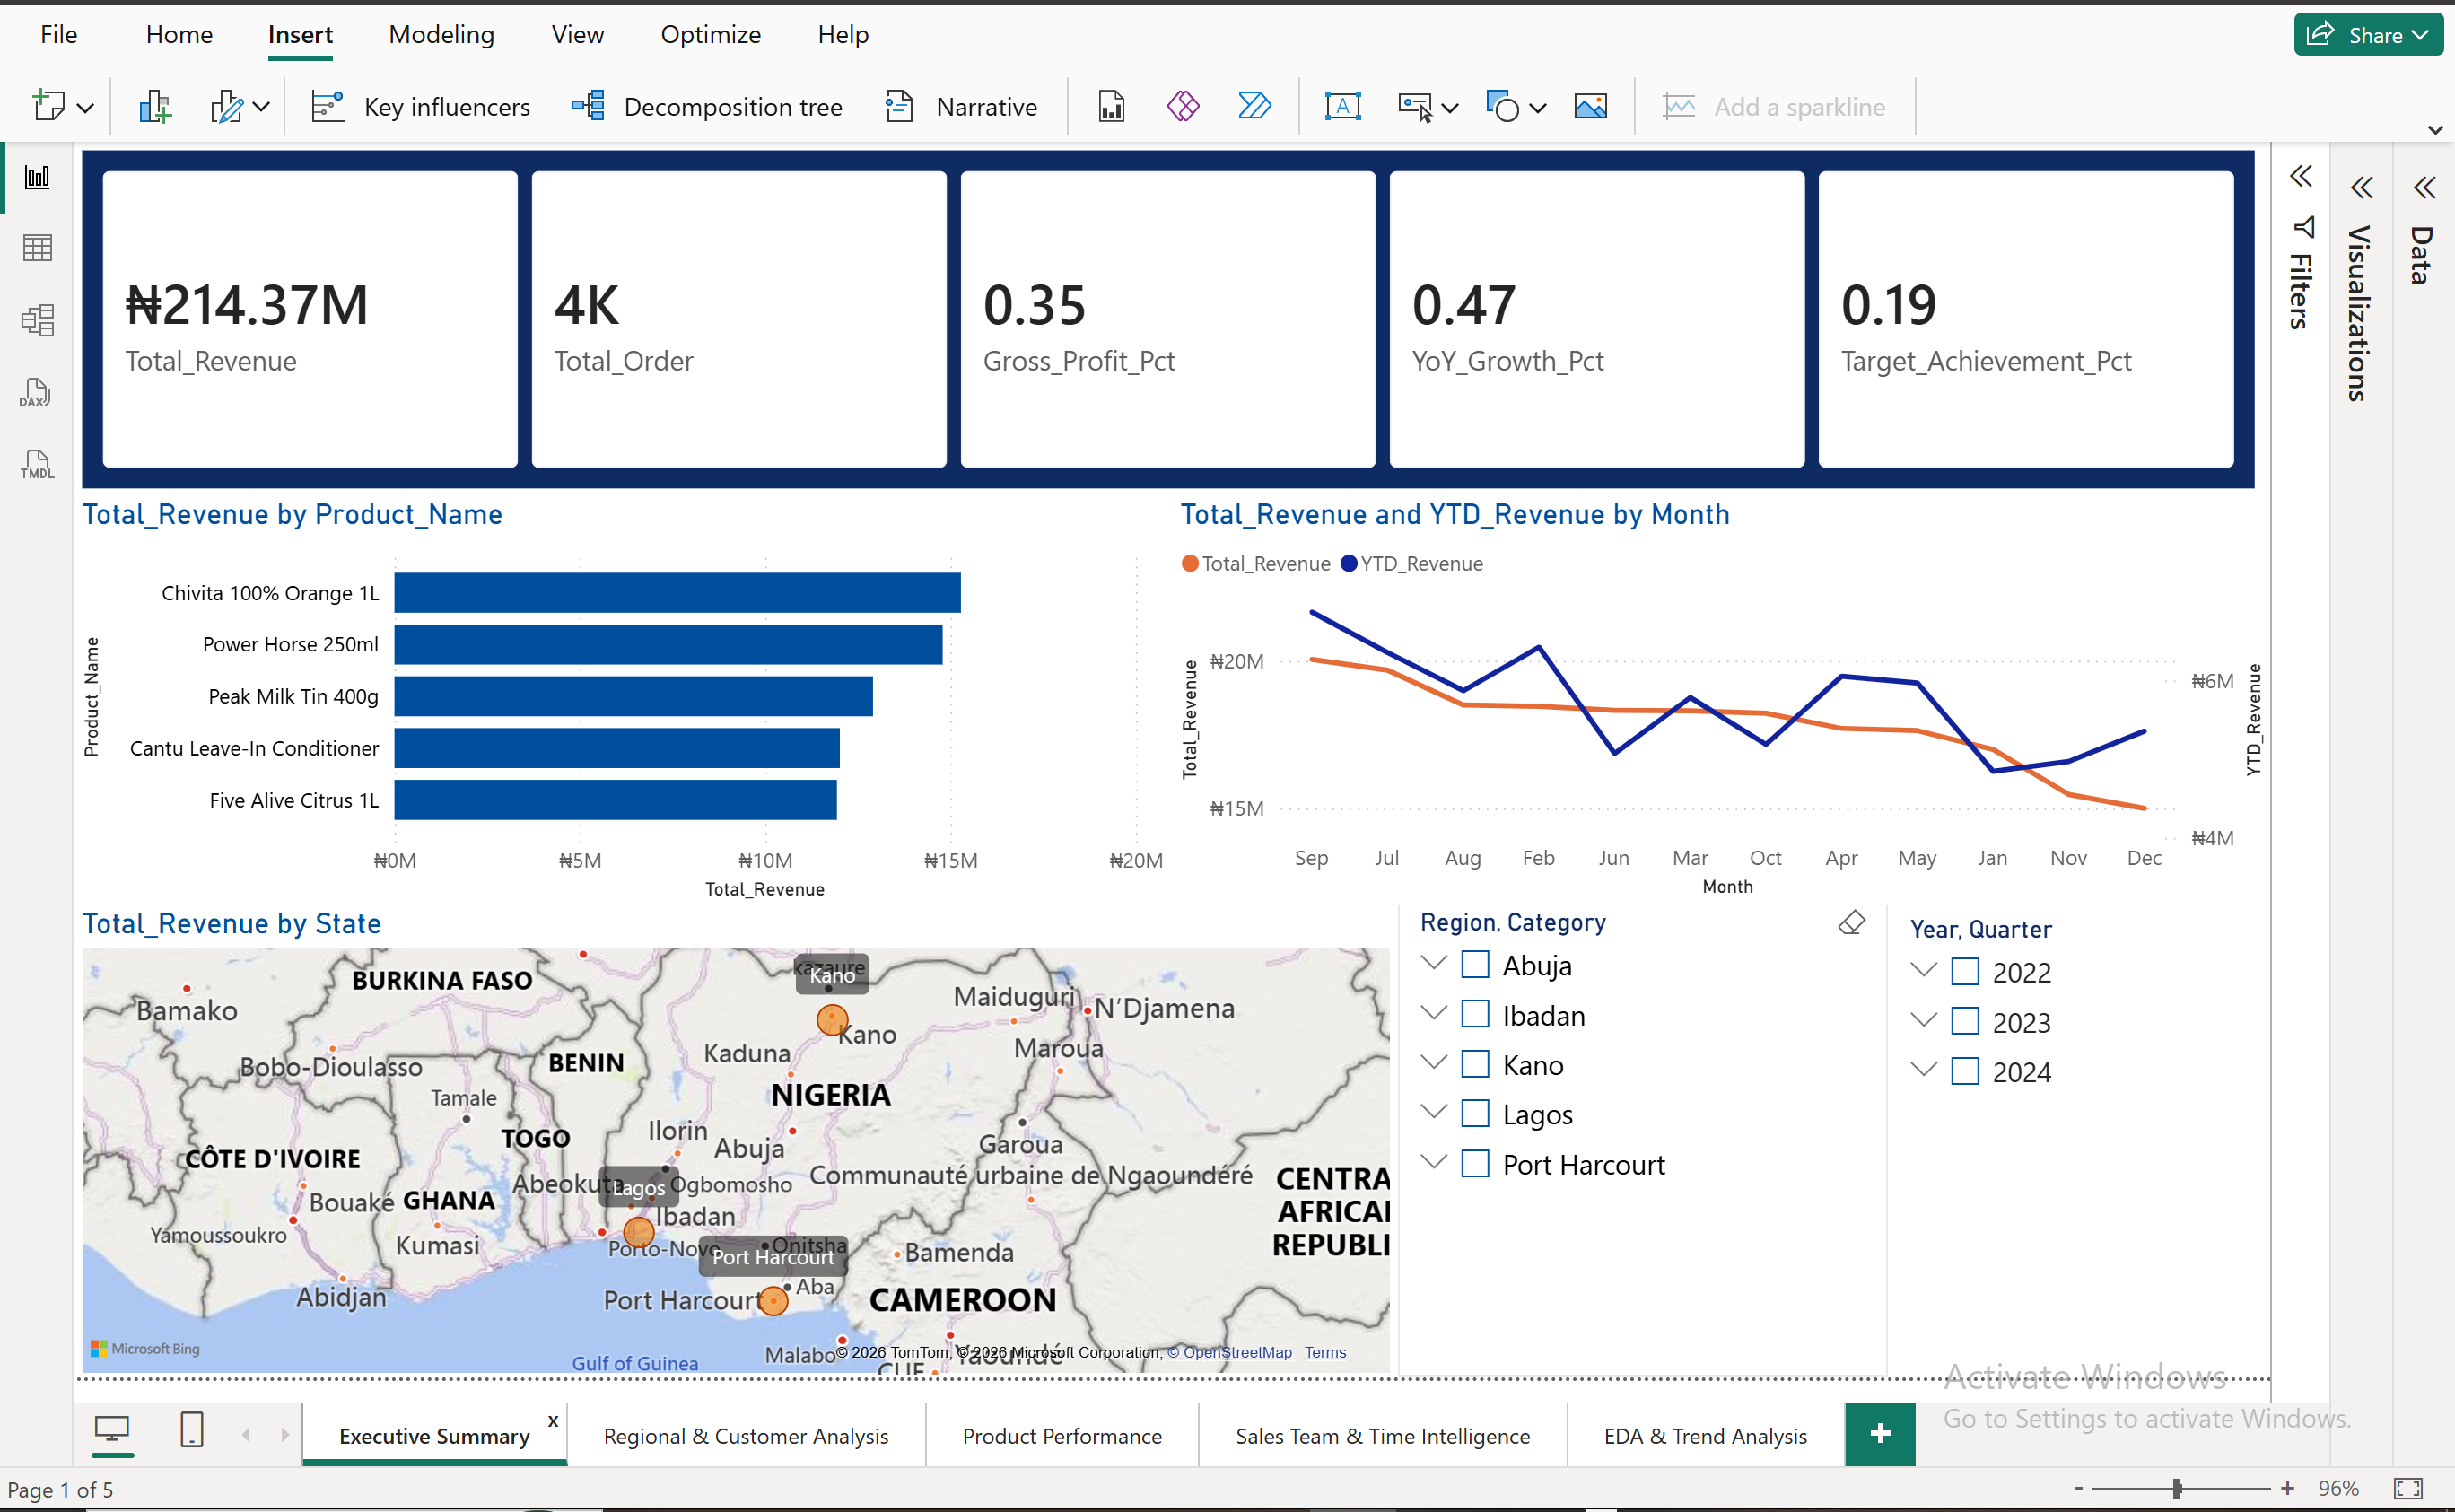

This screenshot's page, from the dashboard's own definition file:
{"tool":"powerbi","page":{"name":"Executive Summary","canvas":[1280,720],"ordinal":0},"visuals":[{"type":"cardVisual","fields":{"Data":["_Measures.Total_Revenue","_Measures.Total_Order","_Measures.Gross_Profit_Pct","_Measures.YoY_Growth_Pct","_Measures.Total_Achievement_Pct"]},"box":[0,0,1280,207.7],"z":0},{"type":"barChart","fields":{"Category":["Products.Product_Name"],"Y":["_Measures.Total_Revenue"]},"box":[0,207.4,640,239],"z":1000},{"type":"map","fields":{"Size":["_Measures.Total_Revenue"],"Category":["Customers.State"]},"box":[0,445,771.8,277.4],"z":2000},{"type":"slicer","fields":{"Values":["Date.Year","Date.Quarter"]},"box":[1057.5,445,222.5,278.8],"z":3000},{"type":"slicer","fields":{"Values":["Sales.Region","Products.Category"]},"box":[771.8,440.9,285.7,278.8],"z":4000},{"type":"lineChart","fields":{"Y":["_Measures.Total_Revenue"],"Y2":["_Measures.YTD_Revenue"],"Category":["Targets.Month"]},"box":[640,207.4,641.4,237.6],"z":5000}]}

Visuals, with their boxes on the page's 1280x720 design canvas (x1, y1, x2, y2). These are canvas units, not pixel positions in the 2455x1512 screenshot, which may show the page scaled, cropped or inside an application window:
cardVisual - _Measures.Total_Revenue x _Measures.Total_Order: [x1=0, y1=0, x2=1280, y2=208]
barChart - Products.Product_Name x _Measures.Total_Revenue: [x1=0, y1=207, x2=640, y2=446]
map - _Measures.Total_Revenue x Customers.State: [x1=0, y1=445, x2=772, y2=722]
slicer - Date.Year x Date.Quarter: [x1=1058, y1=445, x2=1280, y2=724]
slicer - Sales.Region x Products.Category: [x1=772, y1=441, x2=1058, y2=720]
lineChart - _Measures.Total_Revenue x _Measures.YTD_Revenue: [x1=640, y1=207, x2=1281, y2=445]
